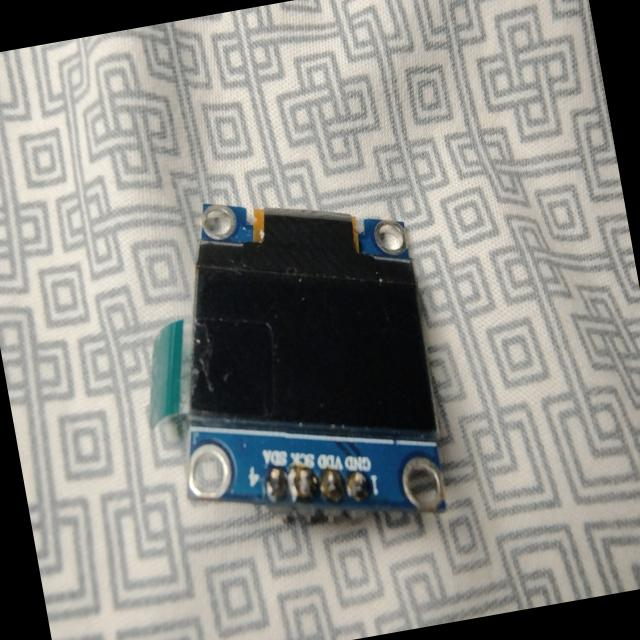oled: (112, 154, 473, 578)
